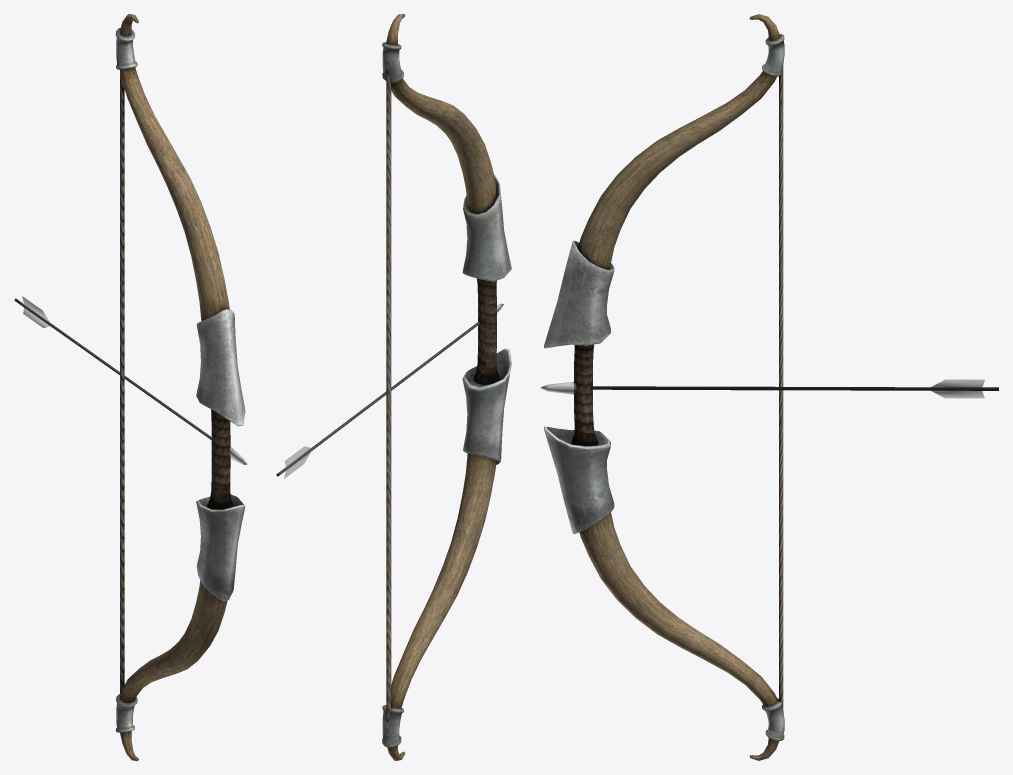
File: shoot.obj
3 views of the same model, side by side, from view 1: azimuth 30°, elevation 25°; view 2: azimuth 150°, elevation 25°; view 3: azimuth 270°, elevation 25° (orthographic).
Parts seen in each view (by area): view 1: Circle.002_Circle.004, Ya_Cube.013; view 2: Circle.002_Circle.004, Ya_Cube.013; view 3: Circle.002_Circle.004, Ya_Cube.013.
Boxes of the visible parts, <box> form: Circle.002_Circle.004: <box>115,14,245,760</box>; Ya_Cube.013: <box>14,296,247,464</box>; Circle.002_Circle.004: <box>382,14,511,760</box>; Ya_Cube.013: <box>276,303,503,478</box>; Circle.002_Circle.004: <box>544,14,784,760</box>; Ya_Cube.013: <box>540,379,998,398</box>.
Size of the model in its own units: 0.1634 by 3.03 by 1.69.
